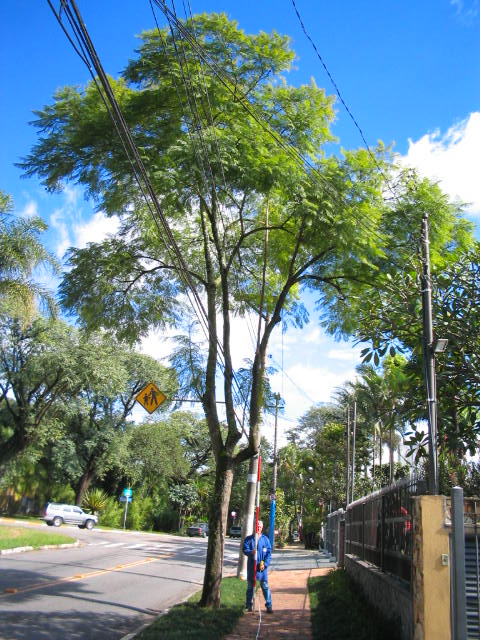crown: (16, 14, 472, 340)
stem: (194, 449, 244, 606)
stick: (247, 452, 264, 612)
tree: (12, 12, 475, 606)
